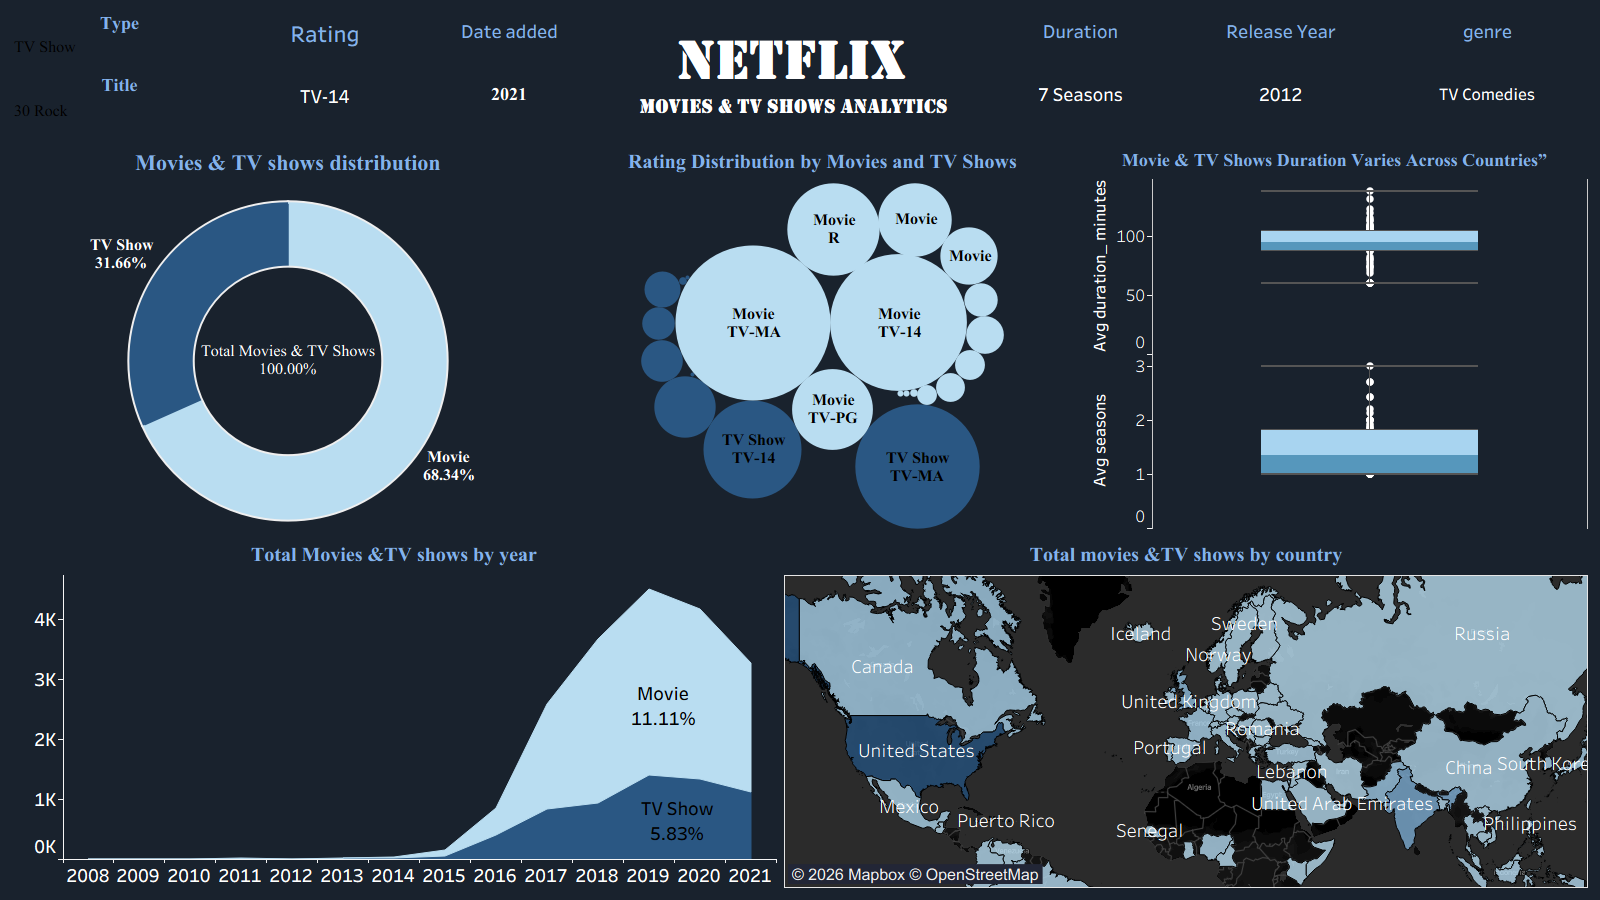

The dashboard page shown, as its layout file describes it:
{"tool":"tableau","page":{"name":"Netflix Movies & TV Shows Analytics","canvas":[1600,900],"ordinal":0},"visuals":[{"type":"filter","title":"Date added","param":"[federated.1j81kk51ucn4ly11w81na1bcm4qo].[none:type:nk]","box":[8,8,222.9,62]},{"type":"worksheet","title":"Rating","mark":"Automatic","box":[230.9,8,188,132]},{"type":"worksheet","title":"Date added","mark":"Automatic","box":[418.9,8,181,132]},{"type":"text","box":[599.9,8,382,132]},{"type":"worksheet","title":"Duration","mark":"Automatic","box":[981.9,8,197,132]},{"type":"worksheet","title":"Release Year","mark":"Automatic","box":[1178.9,8,204,132]},{"type":"worksheet","title":"Genre","mark":"Automatic","box":[1382.9,8,209.1,132]},{"type":"filter","title":"Date added","param":"[federated.1j81kk51ucn4ly11w81na1bcm4qo].[none:title:nk]","box":[8,70,222.9,70]},{"type":"worksheet","title":"Movies & TV shows distribution","mark":"Pie","rows":["Calculation_1836342756450676742","Calculation_1836342756450676742"],"box":[8,140,559.9,393]},{"type":"worksheet","title":"Rating Distribution by Type","mark":"Circle","box":[567.9,140,509,393]},{"type":"worksheet","title":"Movie & TV shows Duration Varies Across Countries”","mark":"Circle","rows":["Calculation_1836342755447549952","Calculation_64739254993260544"],"box":[1076.9,140,515.1,393]},{"type":"worksheet","title":"Total Movies &TV shows by year ","mark":"Area","rows":["show_id"],"cols":["date_added"],"box":[8,533,772,359]},{"type":"worksheet","title":"Total movies &TV shows by country","mark":"Multipolygon","box":[780,533,812,359]}]}

Visuals, with their boxes in screenshot pixels (x1, y1, x2, y2), scaled from the page's 1600x900 canvas onto the 1600x900 screenshot:
"Date added" filter: BBox(8, 8, 231, 70)
"Rating" worksheet: BBox(231, 8, 419, 140)
"Date added" worksheet: BBox(419, 8, 600, 140)
text: BBox(600, 8, 982, 140)
"Duration" worksheet: BBox(982, 8, 1179, 140)
"Release Year" worksheet: BBox(1179, 8, 1383, 140)
"Genre" worksheet: BBox(1383, 8, 1592, 140)
"Date added" filter: BBox(8, 70, 231, 140)
"Movies & TV shows distribution" worksheet (Pie marks): BBox(8, 140, 568, 533)
"Rating Distribution by Type" worksheet (Circle marks): BBox(568, 140, 1077, 533)
"Movie & TV shows Duration Varies Across Countries”" worksheet (Circle marks): BBox(1077, 140, 1592, 533)
"Total Movies &TV shows by year " worksheet (Area marks): BBox(8, 533, 780, 892)
"Total movies &TV shows by country" worksheet (Multipolygon marks): BBox(780, 533, 1592, 892)
